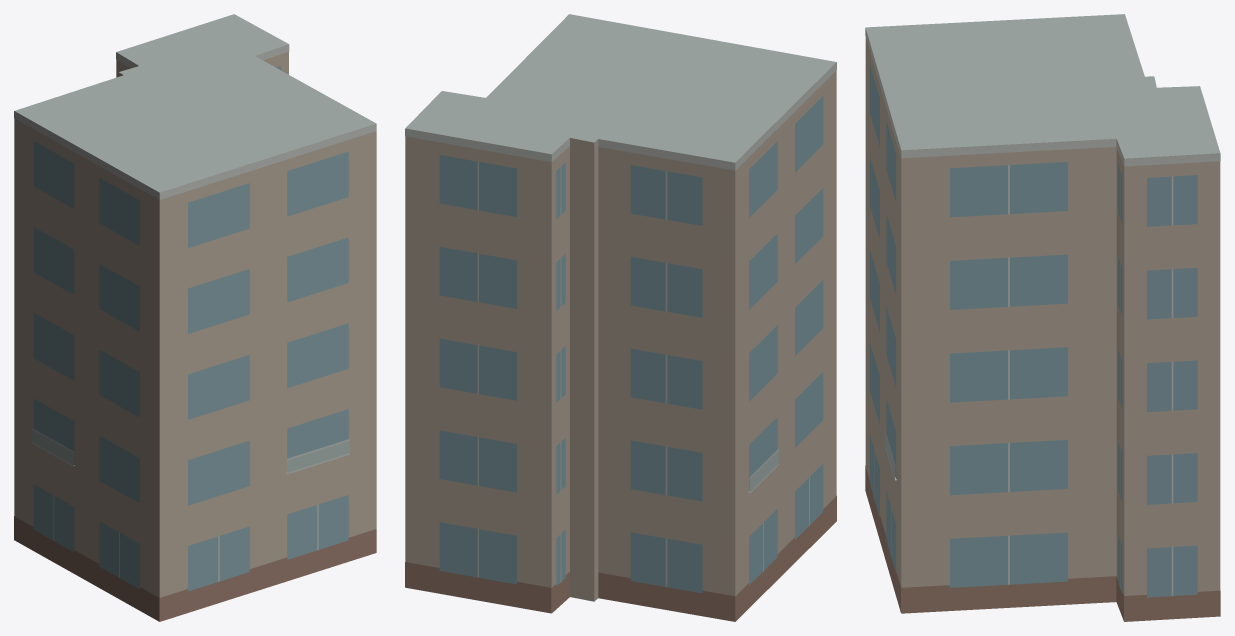
Rendered from survey-upis-32699697.glb.
3 views of the same model, side by side, from view 1: azimuth 30°, elevation 25°; view 2: azimuth 150°, elevation 25°; view 3: azimuth 270°, elevation 25° (orthographic). The views are drawn at different scales.
Parts seen in each view (by area): view 1: survey-upis-32699697.tmp; view 2: survey-upis-32699697.tmp; view 3: survey-upis-32699697.tmp.
Part boxes in pixels (x1,y1,x2,y2): survey-upis-32699697.tmp: (14, 14, 376, 621); survey-upis-32699697.tmp: (405, 14, 836, 621); survey-upis-32699697.tmp: (865, 14, 1220, 621).
Bounding box in the file's own units: 9.52 × 14.2 × 9.87.
